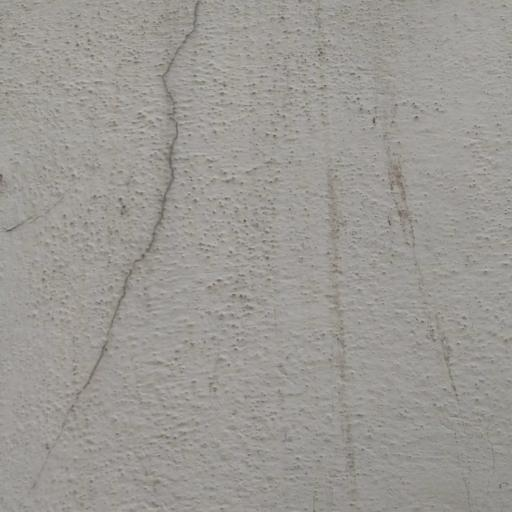minor_crack: (24, 0, 215, 512)
